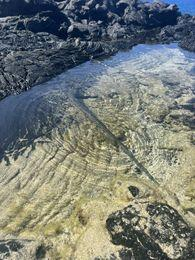Fistularia commersonii: (55, 73, 168, 181)
